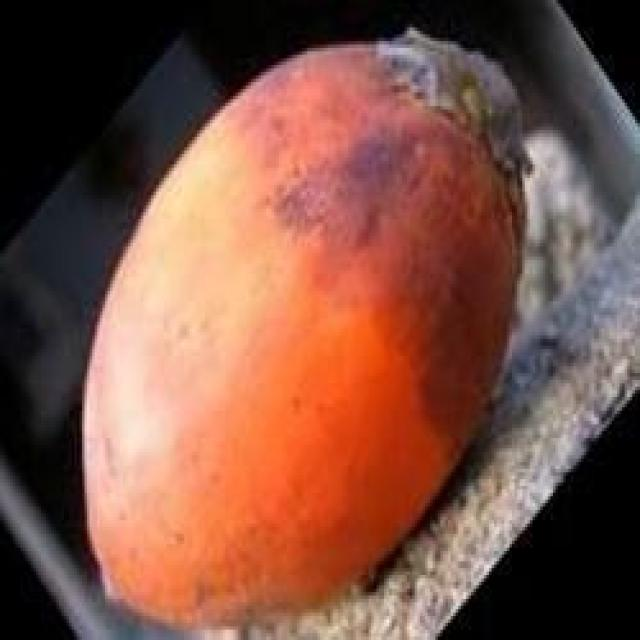good: (82, 27, 535, 637)
